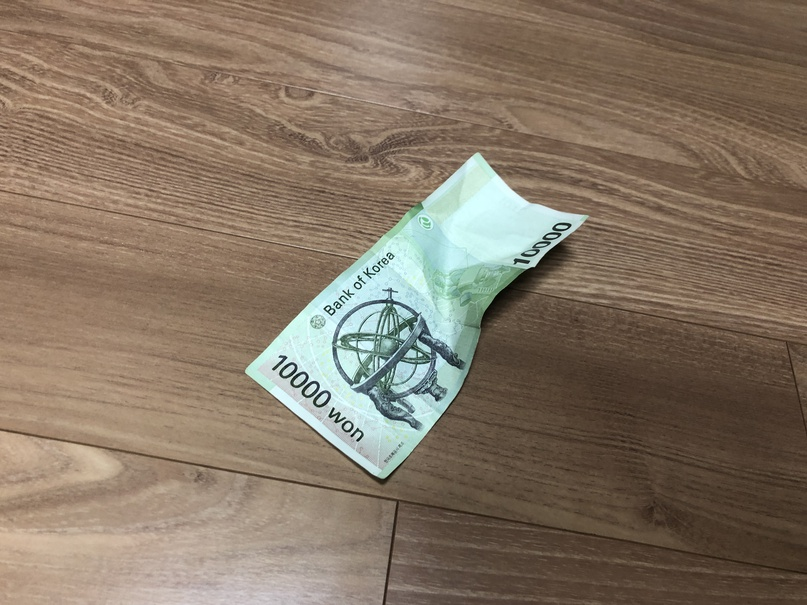10000won: (245, 153, 590, 481)
